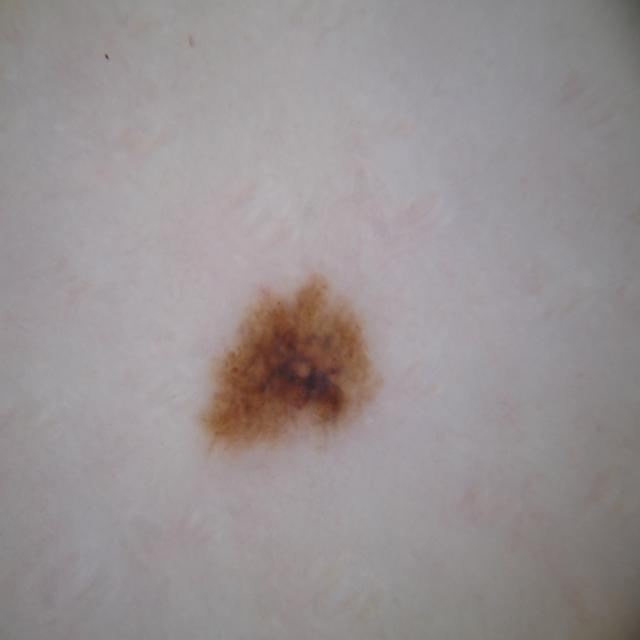Skin-Cancer Nevus: (37, 77, 536, 621)
